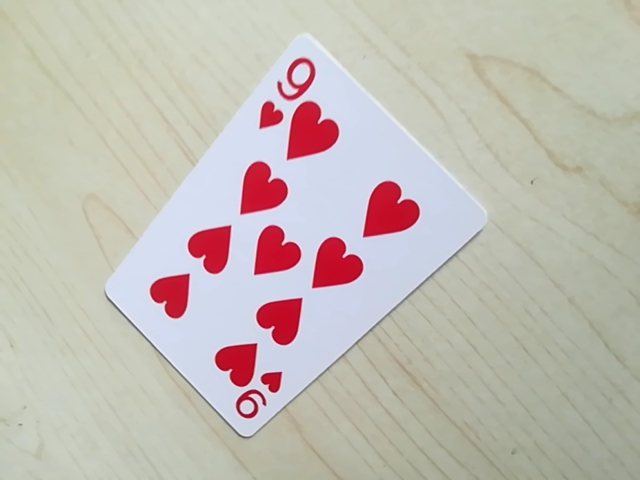hx 9: (261, 49, 311, 131), (226, 377, 288, 429)
